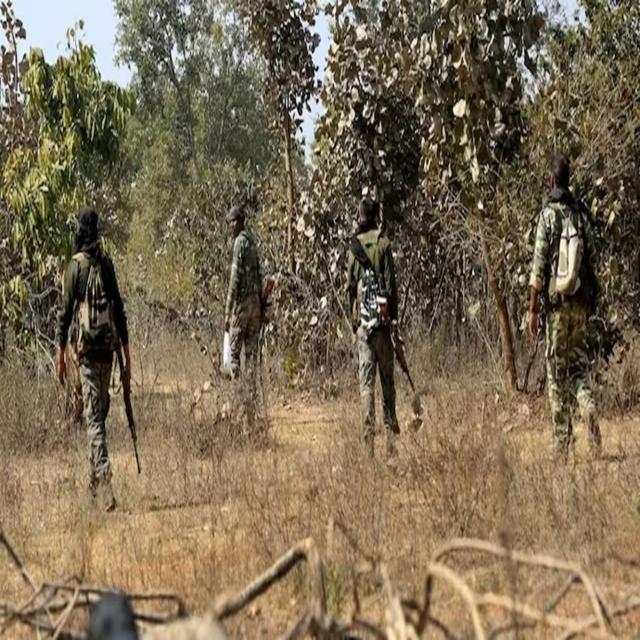Forest: (0, 0, 640, 640)
Militant: (52, 200, 170, 520), (513, 144, 617, 486), (335, 183, 425, 469), (206, 186, 288, 430)
